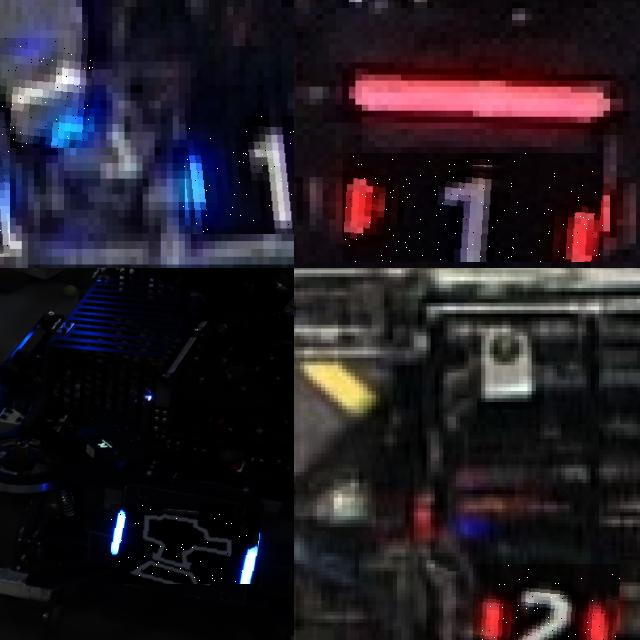B1: (179, 116, 294, 233), (0, 38, 94, 147)
Bs: (110, 504, 260, 584)
R1: (343, 153, 603, 262)
R2: (472, 564, 620, 640)
